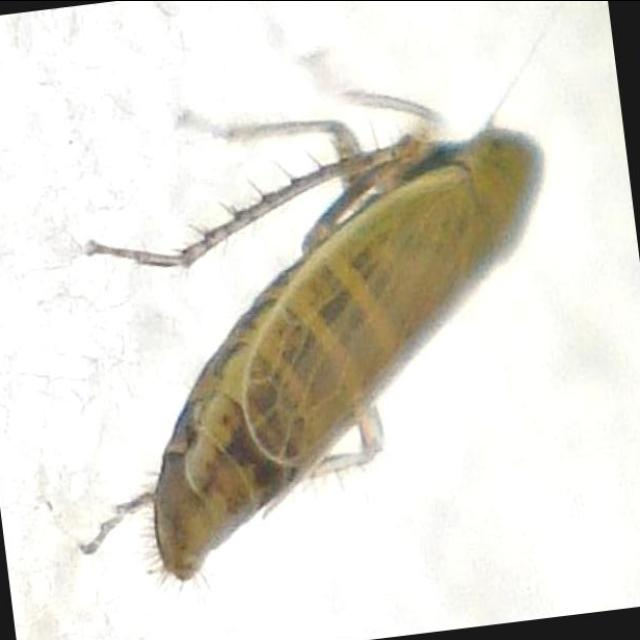green leaf hopper: (82, 89, 543, 579)
